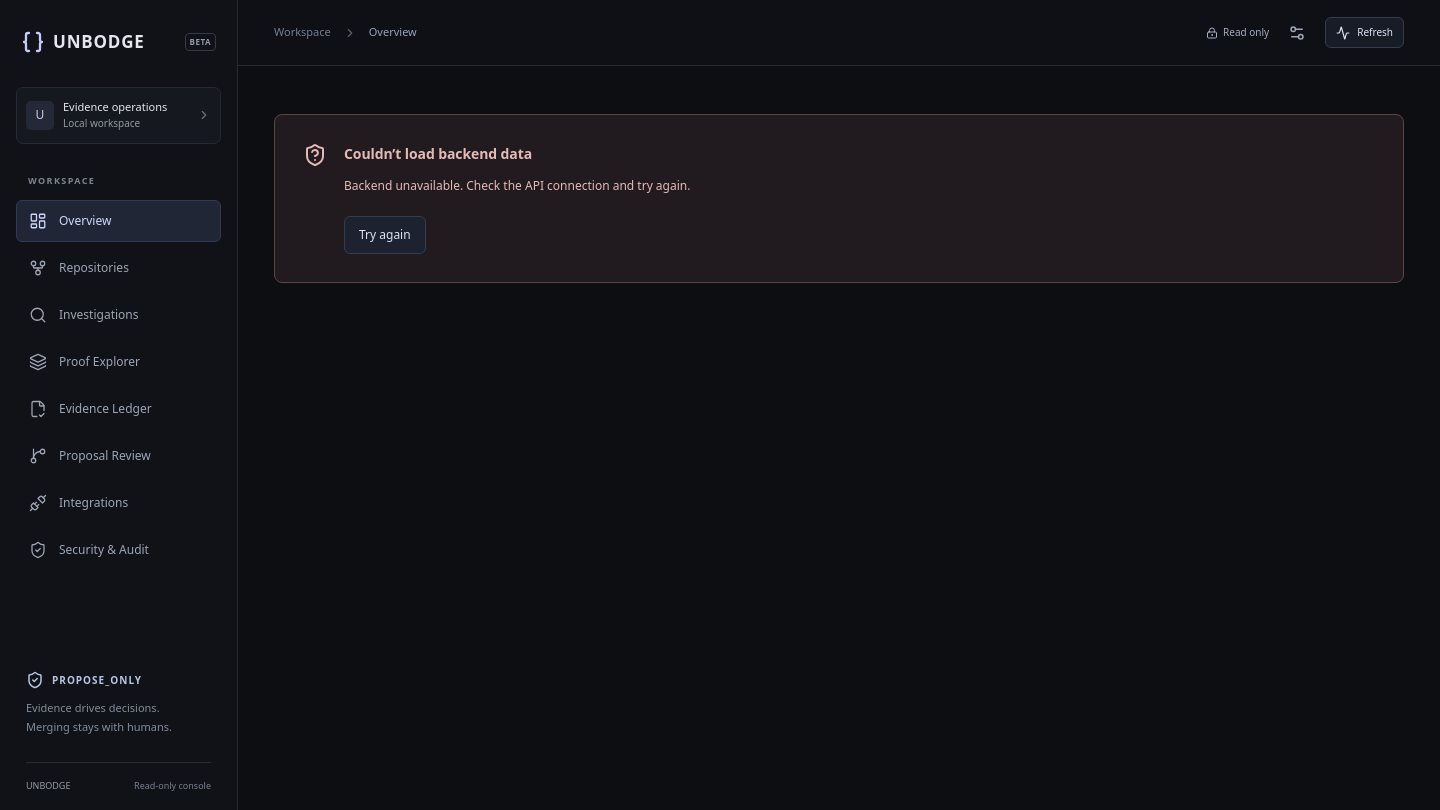
Test: HTTP errors do not render secret-bearing server details and retry works
The width and height of the screenshot is (1440, 810).
expect the message shows "unavailable": met, box [344,177,690,194]
Click the button "Try again": (385, 235) [344,216,426,254]
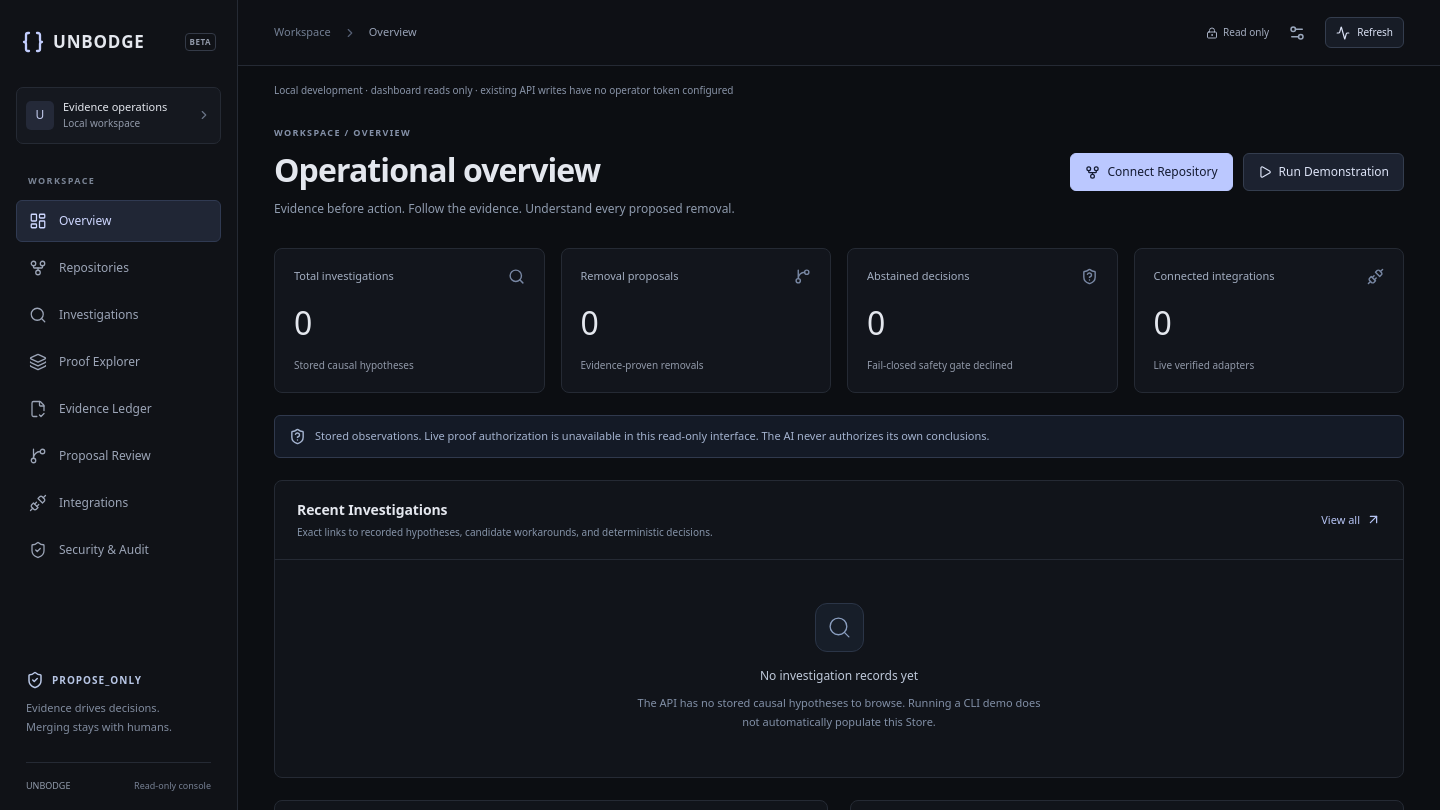
expect the heading "Operational overview" is shown: met, box [274,148,600,191]
